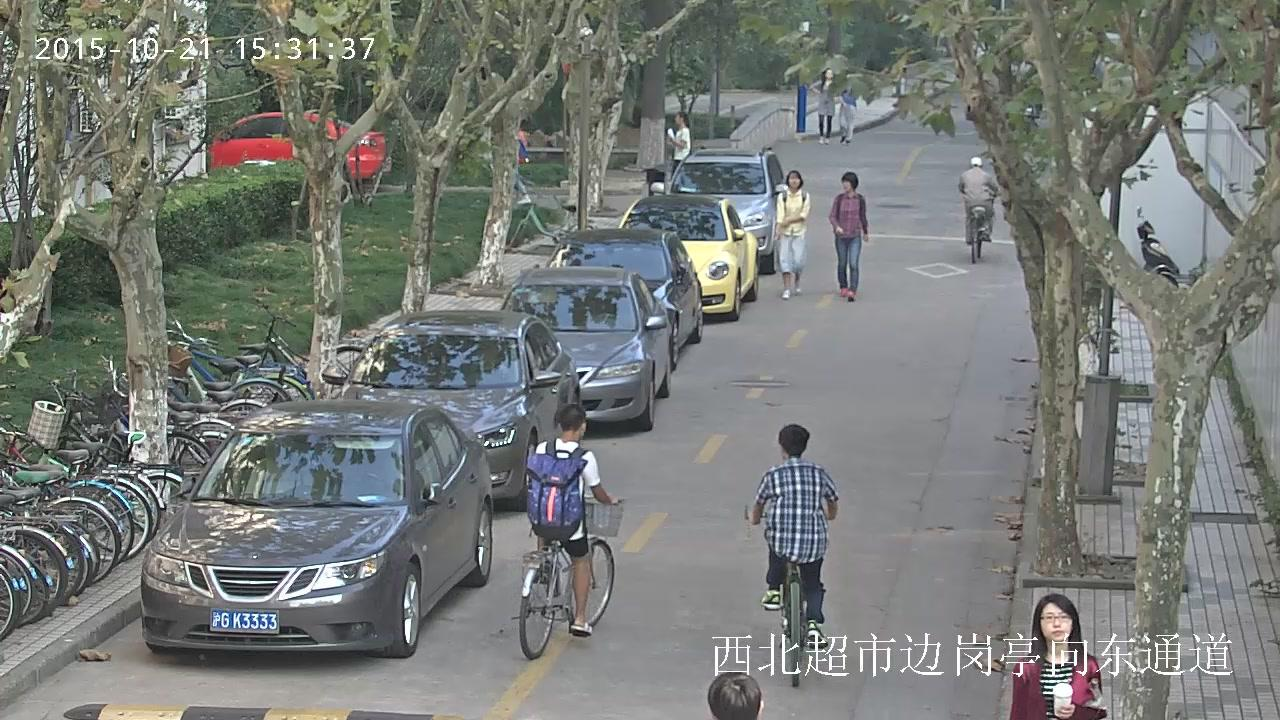person: (511, 404, 622, 659), (745, 421, 838, 686), (524, 404, 613, 636), (750, 423, 839, 647), (1011, 592, 1105, 720), (829, 171, 868, 301), (774, 170, 810, 299), (958, 154, 998, 264), (959, 155, 997, 245), (667, 112, 691, 172), (817, 67, 835, 144), (838, 88, 856, 143)
